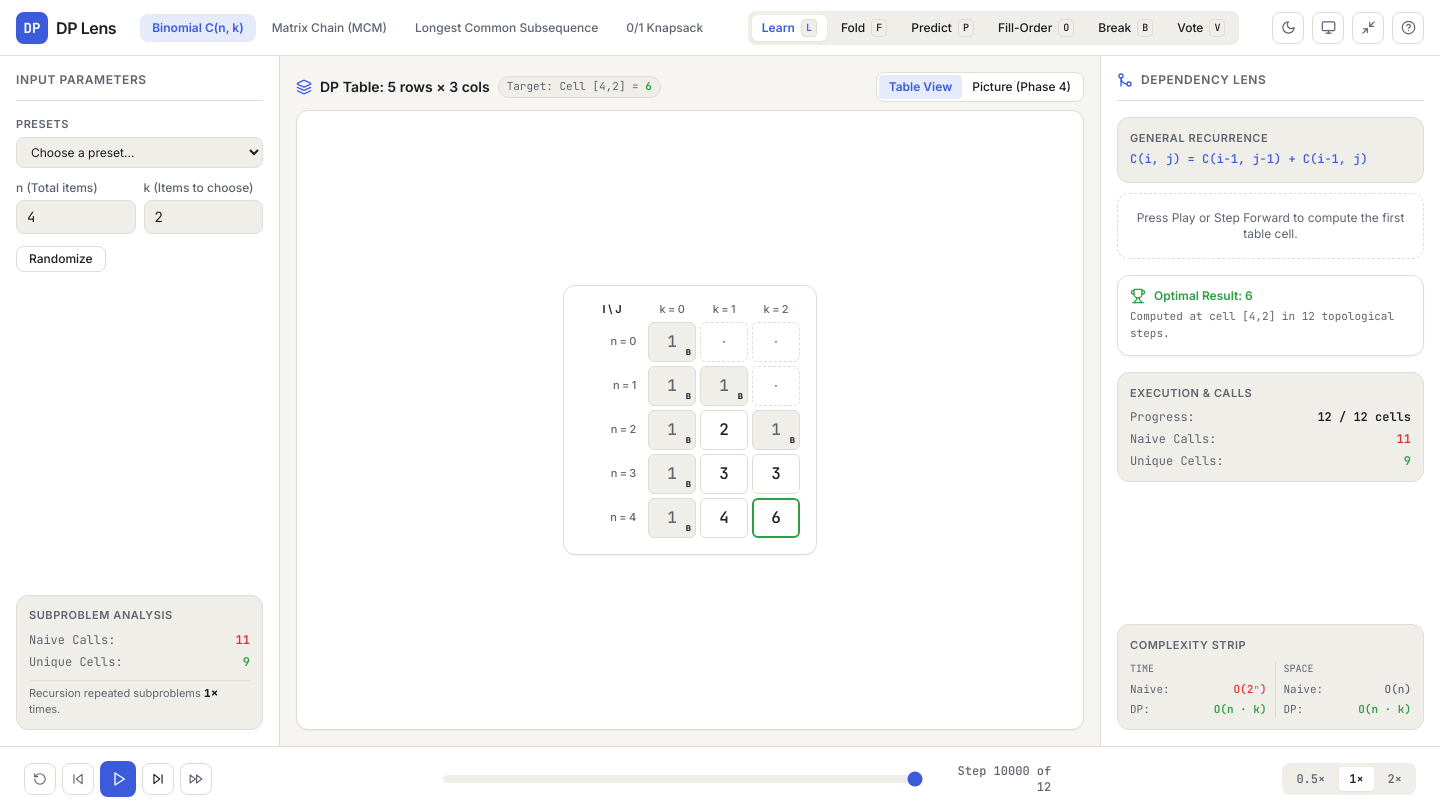
Test: Phase 2 UI Integration › shows error hint when invalid input is entered
// Change n in Binomial to invalid value 12
Replace the text in the number field labelled "n (Total items)" with "12" at point(76, 217), box [16,200,136,234]
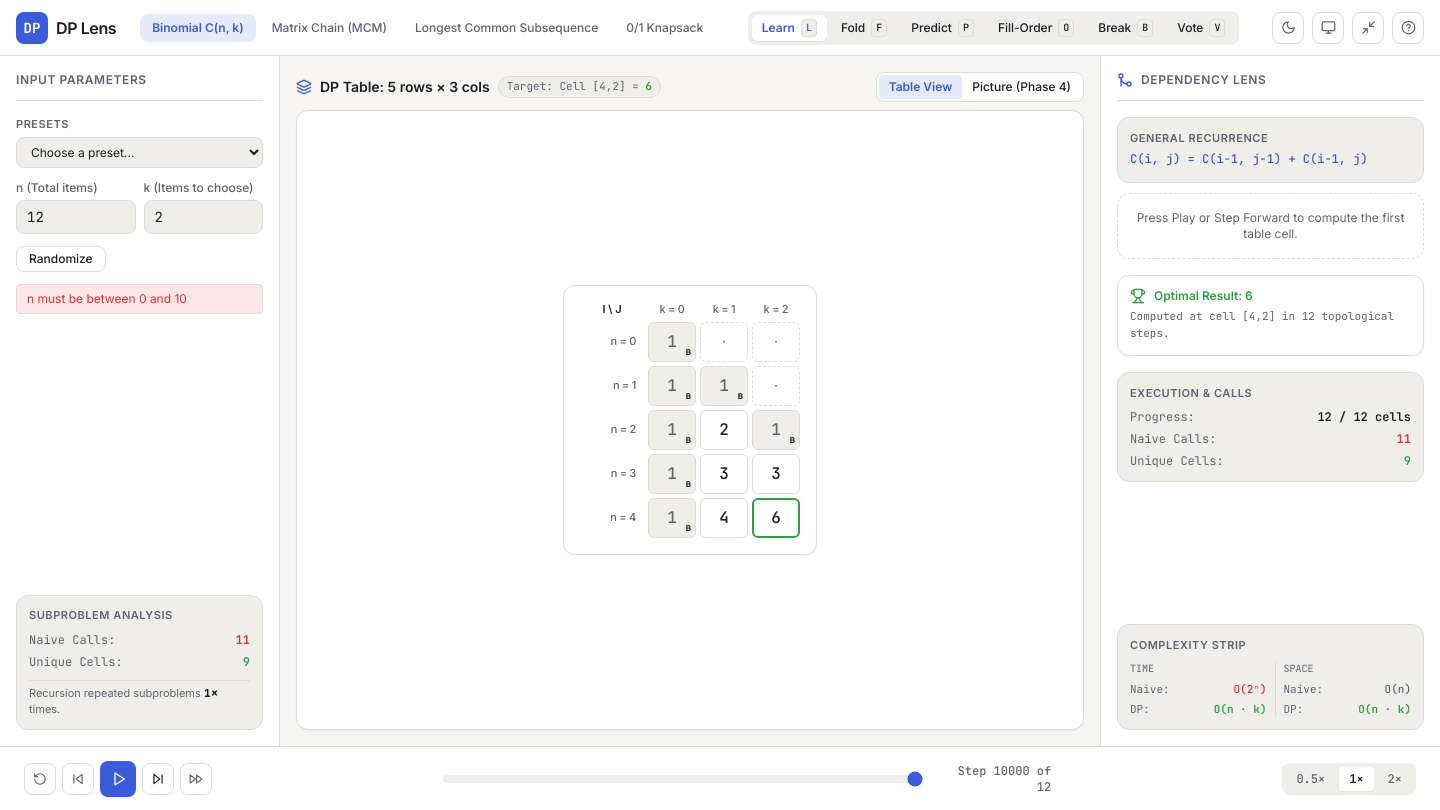
Result: the text "n must be between 0 and 10" is shown at [16,284,263,314]
